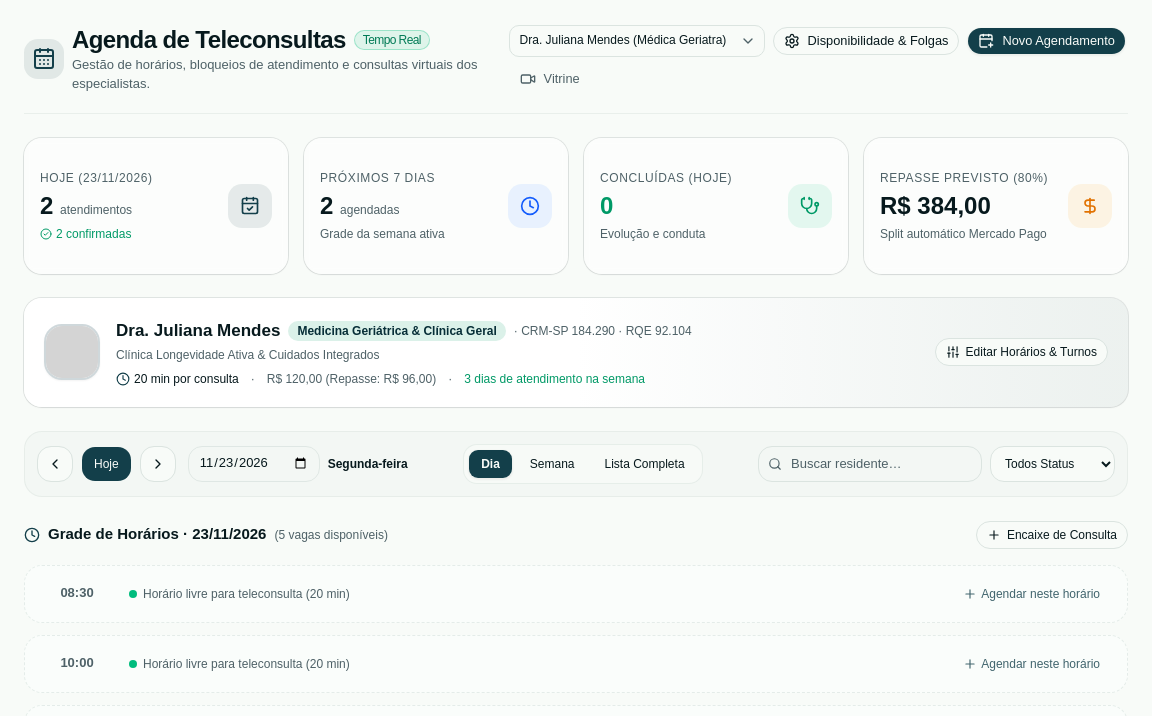
AgendaTeleconsulta Page › permite alternar modos de visualização entre Dia, Semana e Lista Completa
Later steps or results of the test are not shown.
Expected: the heading "Grade de Horários · 23/11/2026 (5 vagas disponíveis)" is shown, [24,523,388,546]
Note: Alterna para Lista Completa
Click the button "Lista Completa" at {"x": 644, "y": 464}, box [592,449,698,479]
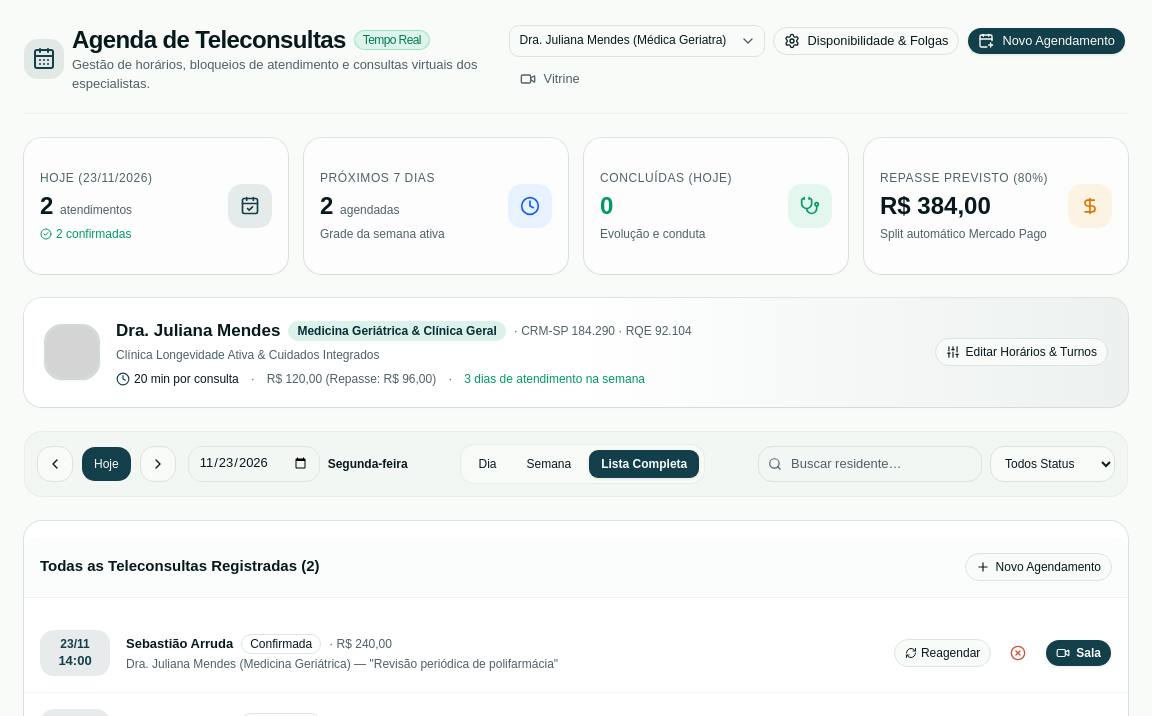
Now the text "Todas as Teleconsultas Registradas (2)" is shown, box [40,555,320,578]
